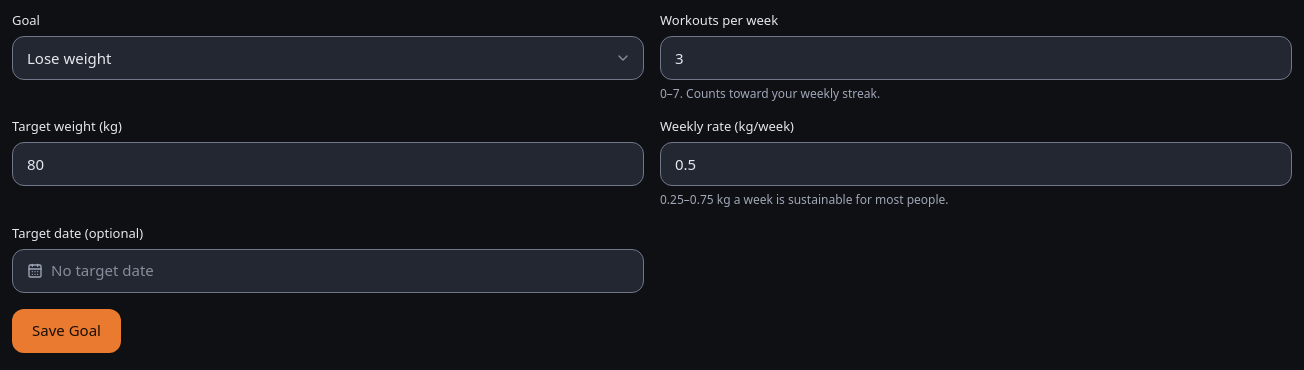
Test case: GoalForm › maps server field errors onto the form
The width and height of the screenshot is (1304, 370).
Click the button "Save Goal".
click(66, 331)  # box [12, 309, 121, 353]
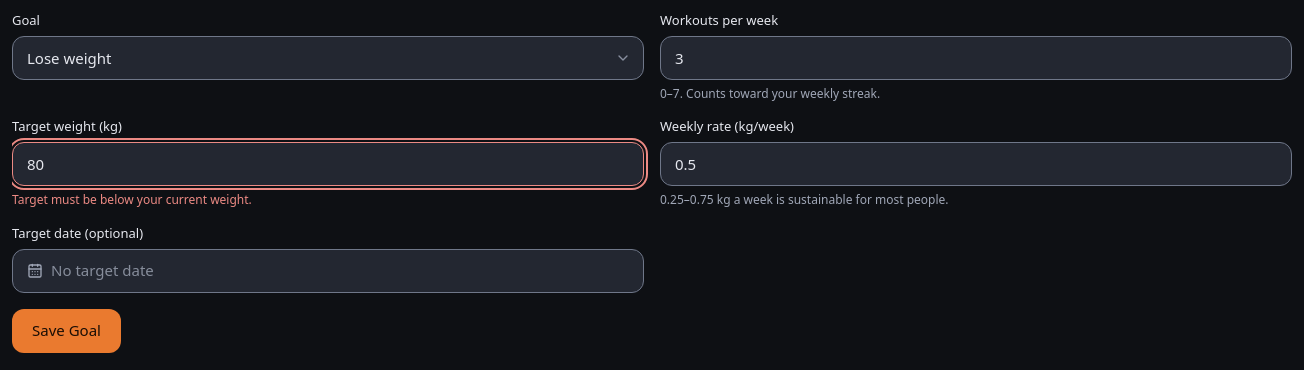
Expected: the text "Target must be below your current weight." is shown, [12, 191, 252, 208]
